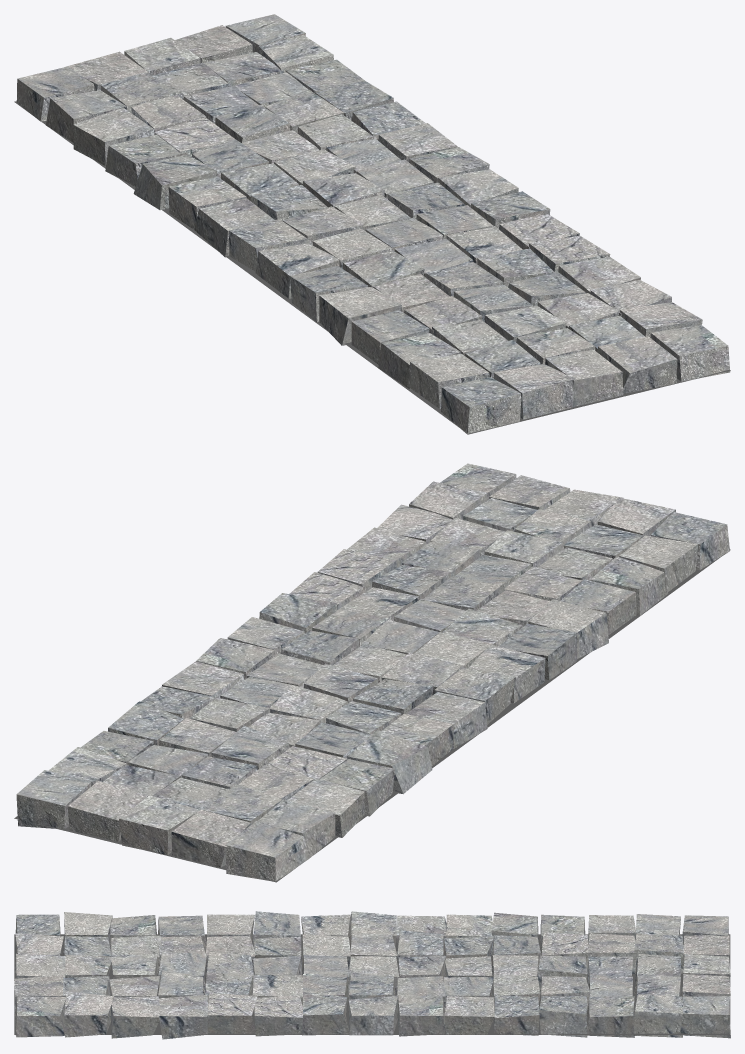
File: Stone_Tile_1x3.fbx
The picture shows the model from 3 angles, top to bottom: view 1: azimuth 30°, elevation 25°; view 2: azimuth 150°, elevation 25°; view 3: azimuth 270°, elevation 25°; orthographic projection. The views are drawn at different scales.
Parts seen in each view (by area): view 1: Stone_Tile_1x3; view 2: Stone_Tile_1x3; view 3: Stone_Tile_1x3.
Boxes of the visible parts, <box> form: Stone_Tile_1x3: <box>14,14,730,434</box>; Stone_Tile_1x3: <box>14,463,730,882</box>; Stone_Tile_1x3: <box>14,911,730,1039</box>.
Size of the model in its own units: 1.04 by 0.1367 by 3.
2 materials, 1 textured.
